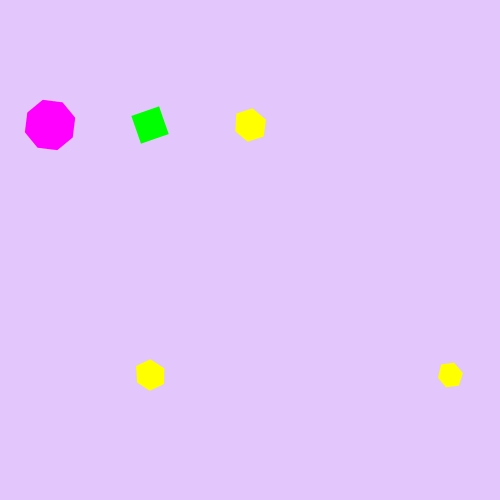hexagon: (229, 107, 272, 143), (130, 358, 171, 393), (433, 360, 468, 390)
octagon: (21, 96, 80, 155)
quadrilateral: (126, 101, 174, 149)
